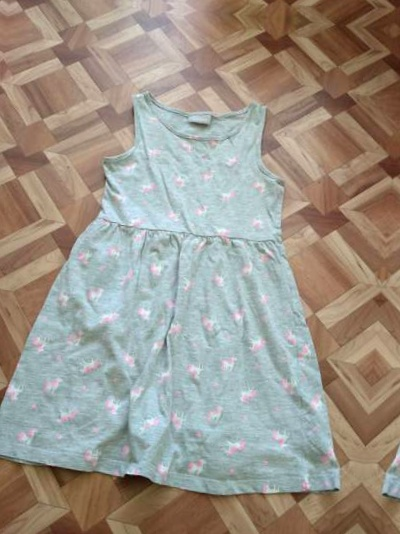Dress: (0, 38, 391, 524), (370, 79, 400, 534)
